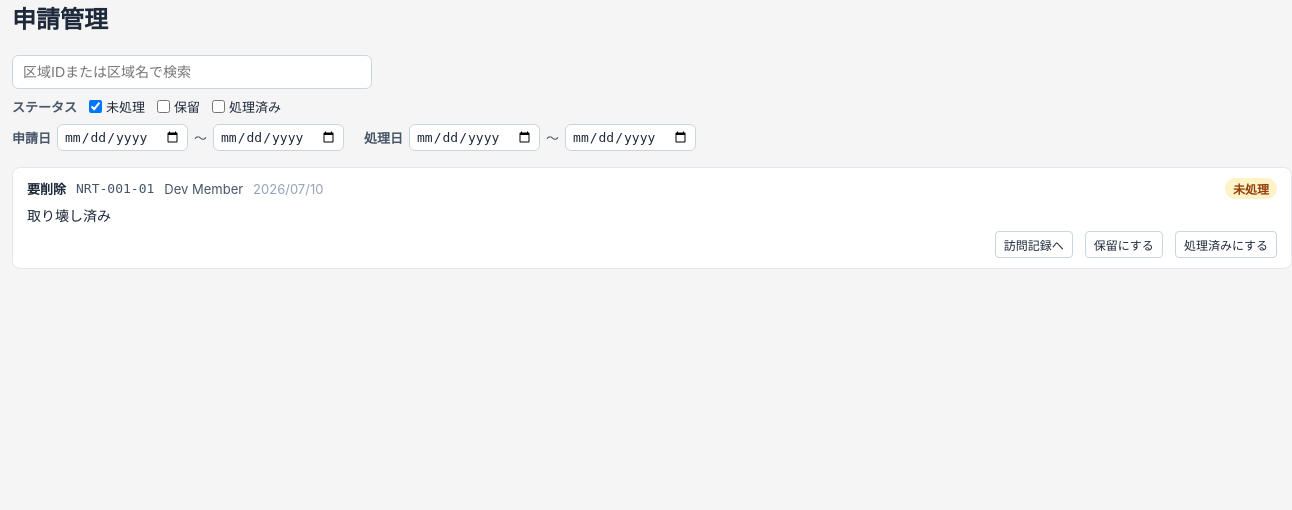
Test: RequestsPage 申請一覧 › ステータス絞り込みを切り替えると保留・処理済みも表示される
Expected: the text "取り壊し済み" is shown, [27, 207, 111, 224]
Click the checkbox labelled "保留" at point(164, 106), box [157, 100, 170, 113]
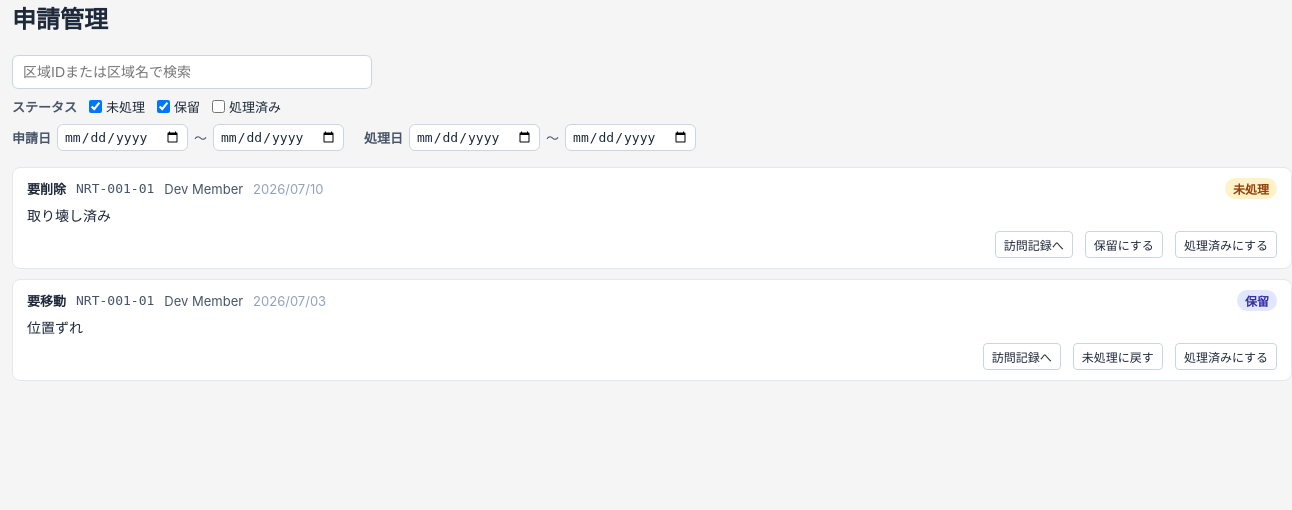
Click the checkbox labelled "処理済み" at point(218, 106), box [212, 100, 225, 113]
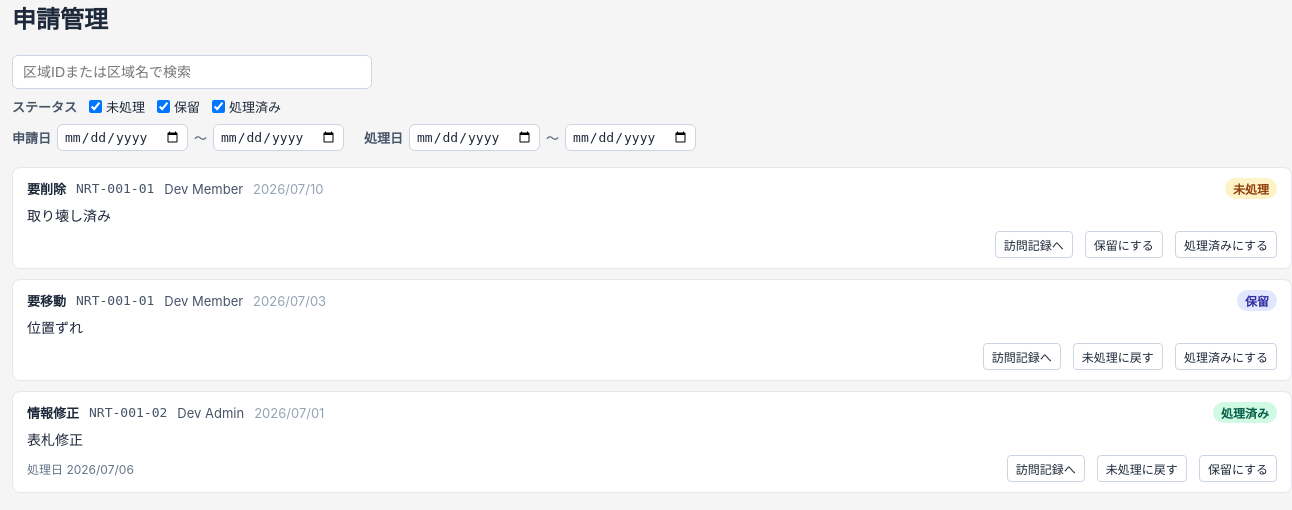
Expected: the number of list items with test id "request-row" is 3, [12, 167, 1291, 269]; [12, 279, 1291, 381]; [12, 391, 1291, 493]
Click the checkbox labelled "未処理" at point(96, 106), box [89, 100, 102, 113]
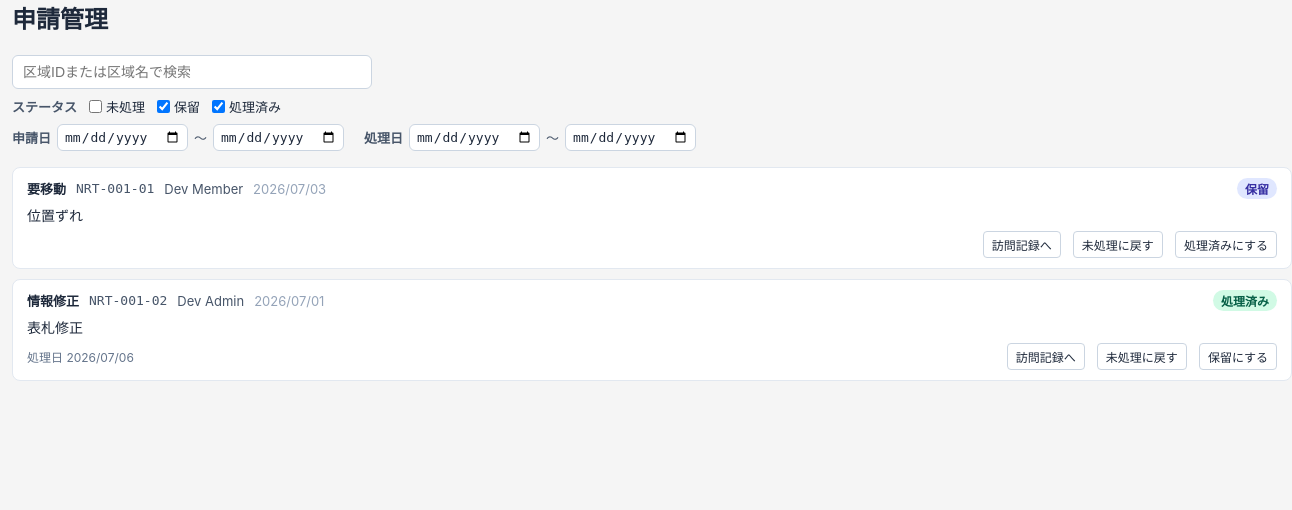
Expected: the number of list items with test id "request-row" is 2, [12, 167, 1291, 269]; [12, 279, 1291, 381]
Expected: the text "取り壊し済み" is gone
